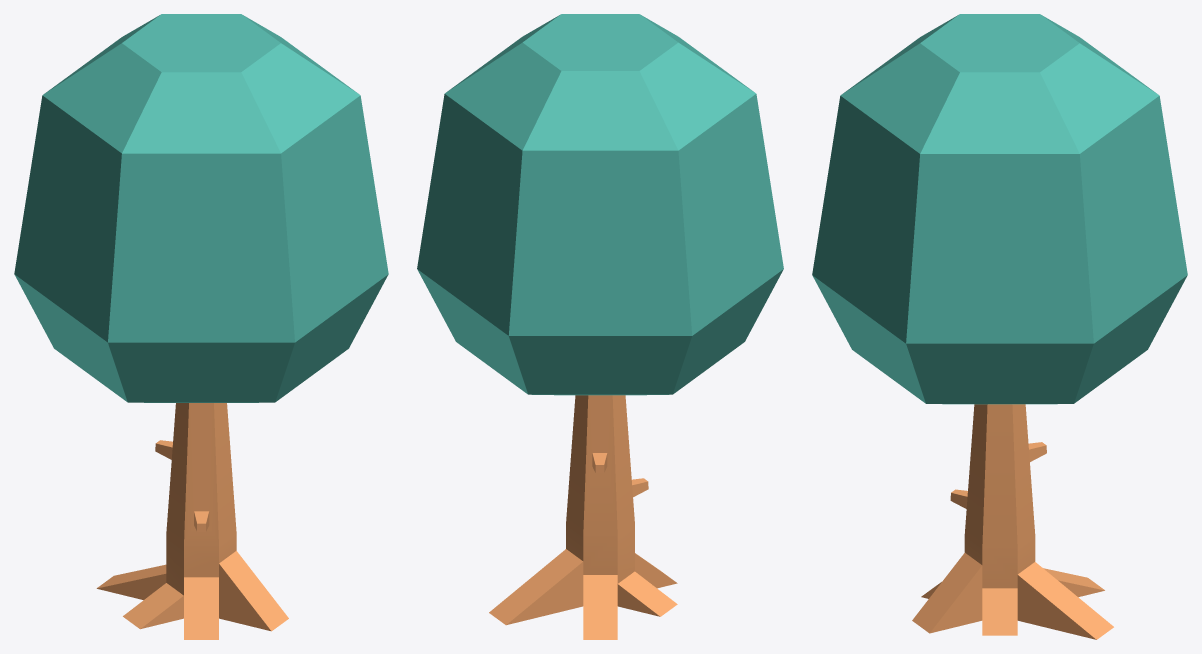
File: tree_oak.fbx
3 views of the same model, side by side, from view 1: azimuth 30°, elevation 25°; view 2: azimuth 150°, elevation 25°; view 3: azimuth 270°, elevation 25° (orthographic). The views are drawn at different scales.
Parts seen in each view (by area): view 1: tree_oak; view 2: tree_oak; view 3: tree_oak.
Boxes of the visible parts, x1,y1,x2,y2 form: tree_oak: [14, 14, 388, 639]; tree_oak: [417, 14, 783, 639]; tree_oak: [812, 14, 1187, 639].
Size of the model in its own units: 6.41 by 12.26 by 7.4.
